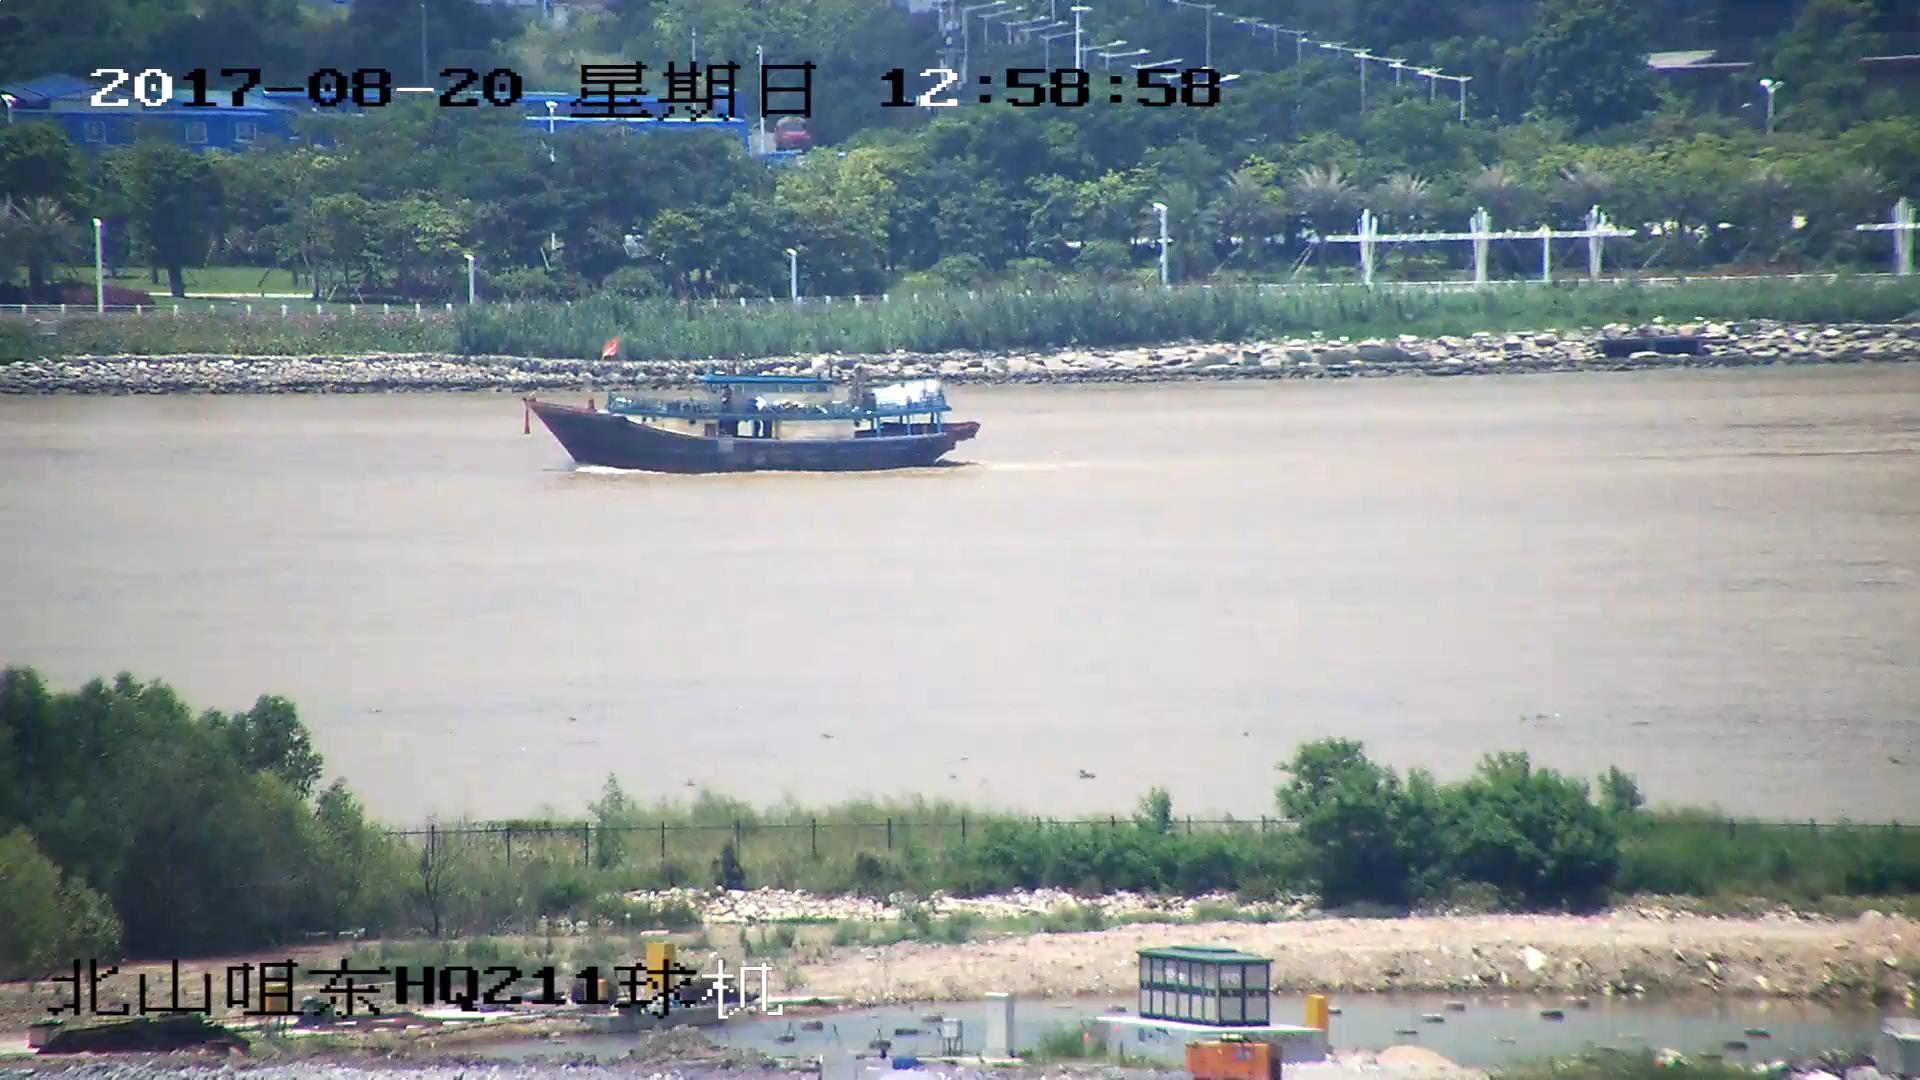fishing boat: (526, 362, 981, 471)
